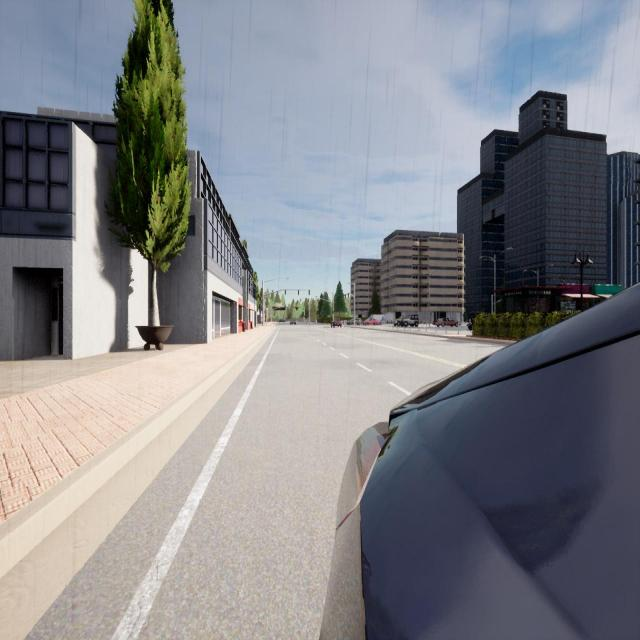Vehicle: (321, 285, 639, 638), (394, 314, 418, 326), (363, 314, 385, 325), (437, 318, 458, 327), (347, 318, 360, 326), (332, 320, 342, 328), (468, 318, 473, 330), (290, 318, 296, 324), (280, 319, 284, 322)
traffic_light: (332, 310, 334, 314), (308, 290, 310, 294), (298, 290, 299, 295), (300, 298, 301, 302), (285, 290, 286, 294), (345, 295, 346, 298), (348, 294, 349, 297), (308, 299, 309, 301), (318, 299, 318, 302)
